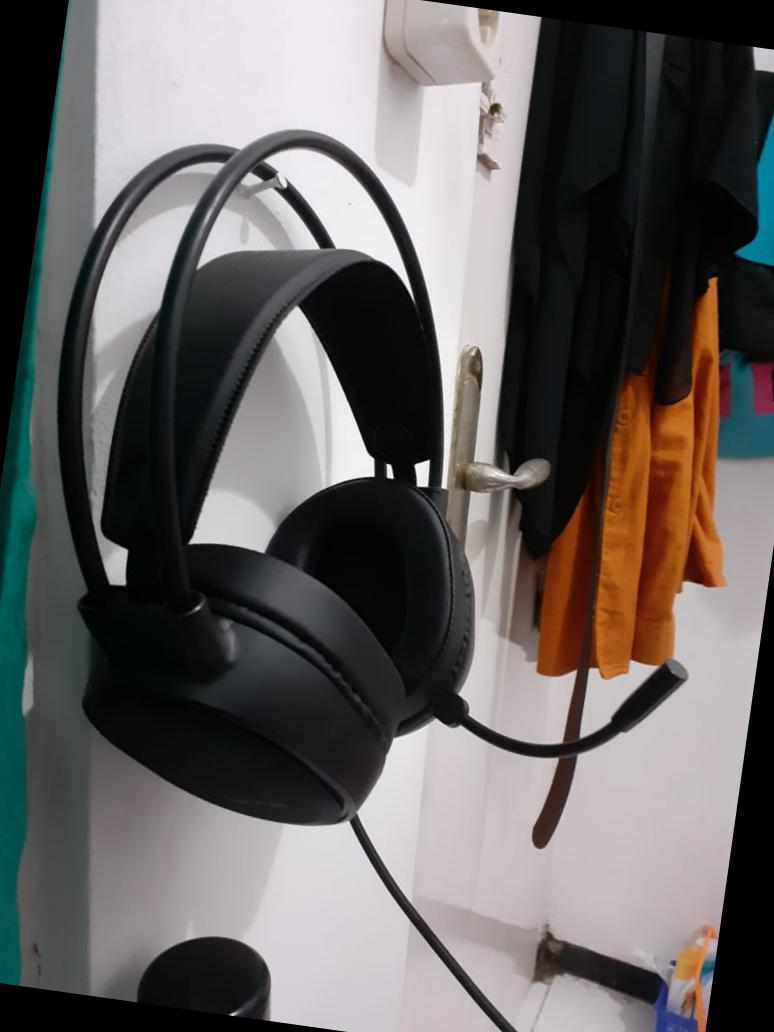Headset: (0, 71, 764, 894)
